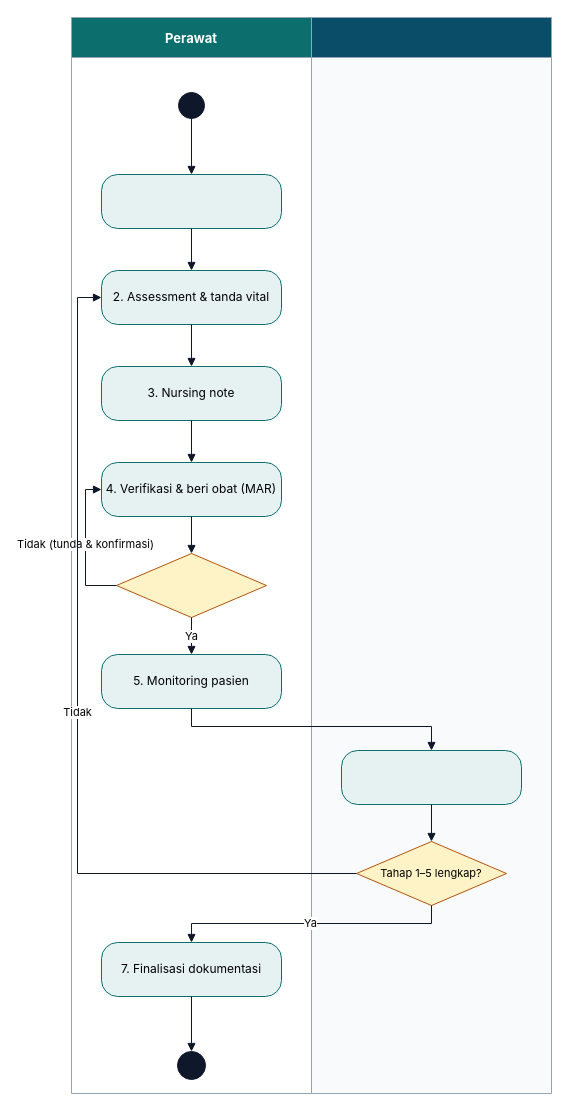
This 569x1111 diagram has some shape labels left out. Each missing label, with the box of its shape:
1. Identifikasi & persiapan: (100, 174, 282, 228)
4 verifikasi benar?: (116, 552, 266, 618)
6. Cek kelengkapan tahap: (340, 750, 522, 804)
Sistem SIMRS: (310, 16, 552, 1094)
